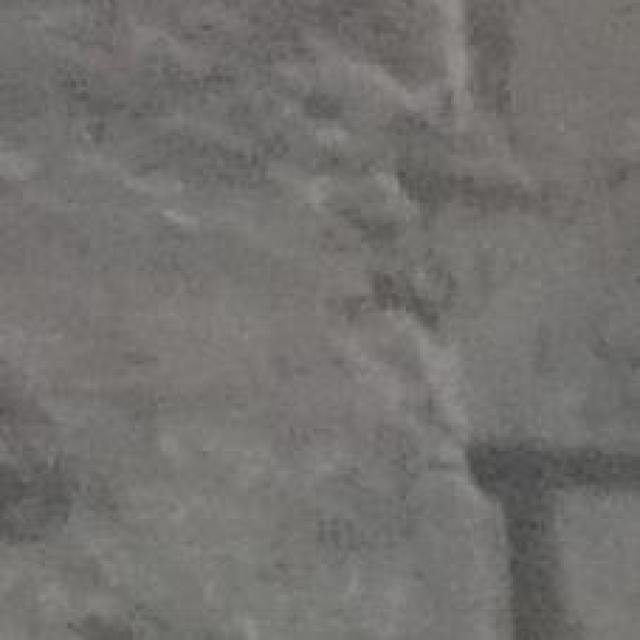Crack: (288, 4, 640, 640)
